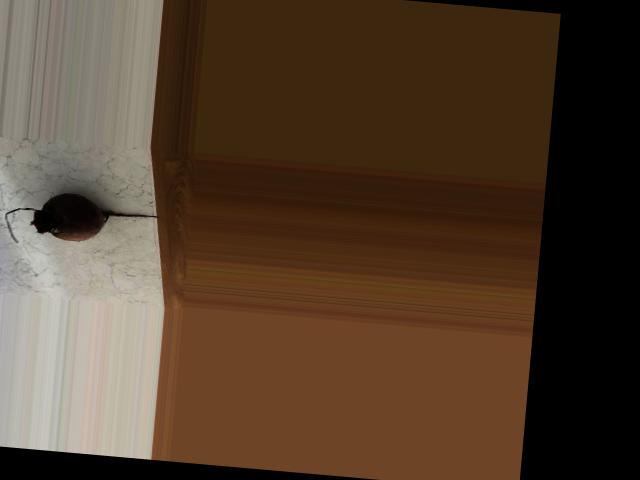beet: (4, 187, 162, 254)
